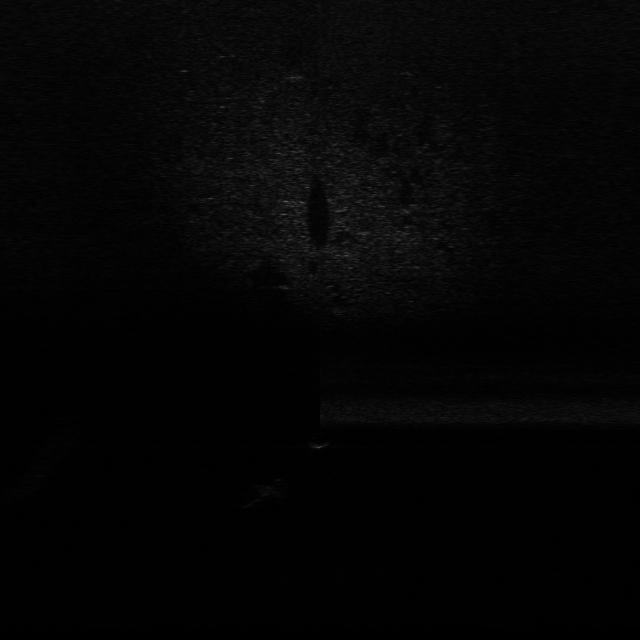ball: (306, 429, 332, 450)
square cage: (254, 476, 290, 501)
